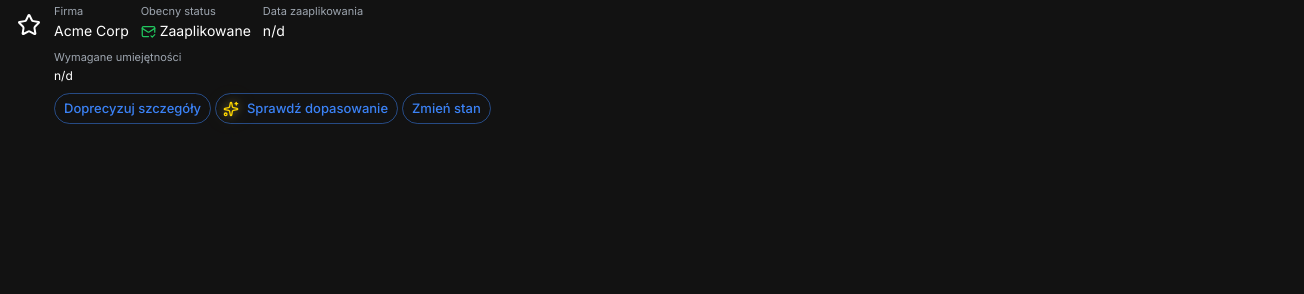
Test: ApplicationStatusEditor › does not list the current status in next status options
The width and height of the screenshot is (1304, 294).
Click the button "Zmień stan": (446, 109) top-left (402, 94), bottom-right (491, 124)
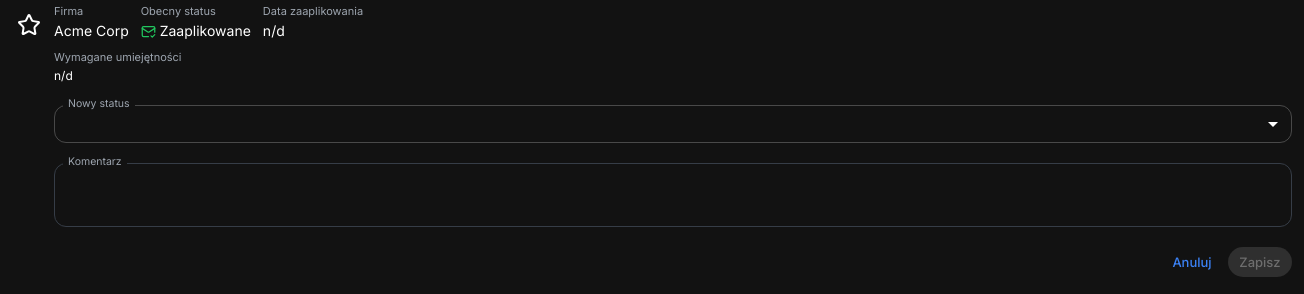
Press the mouse on the dropdown named "Nowy status": (673, 124) top-left (54, 106), bottom-right (1292, 143)
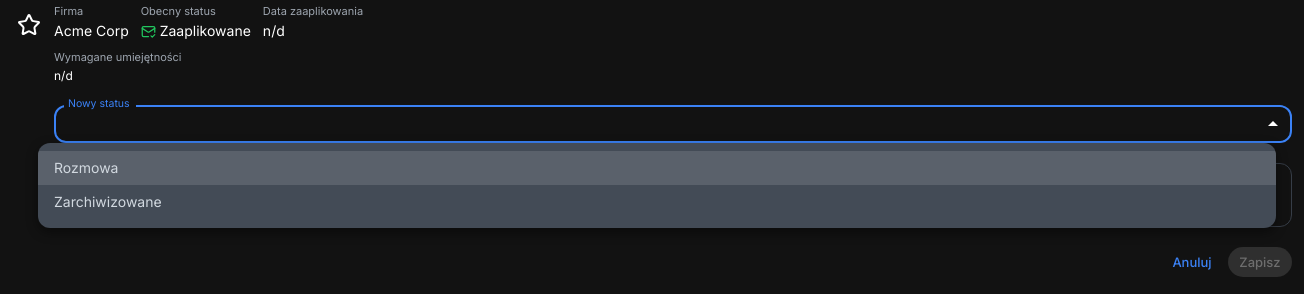
Expected: the option "Rozmowa" is shown, top-left (38, 151), bottom-right (1276, 185)
Expected: the option "Zarchiwizowane" is shown, top-left (54, 193), bottom-right (162, 210)
